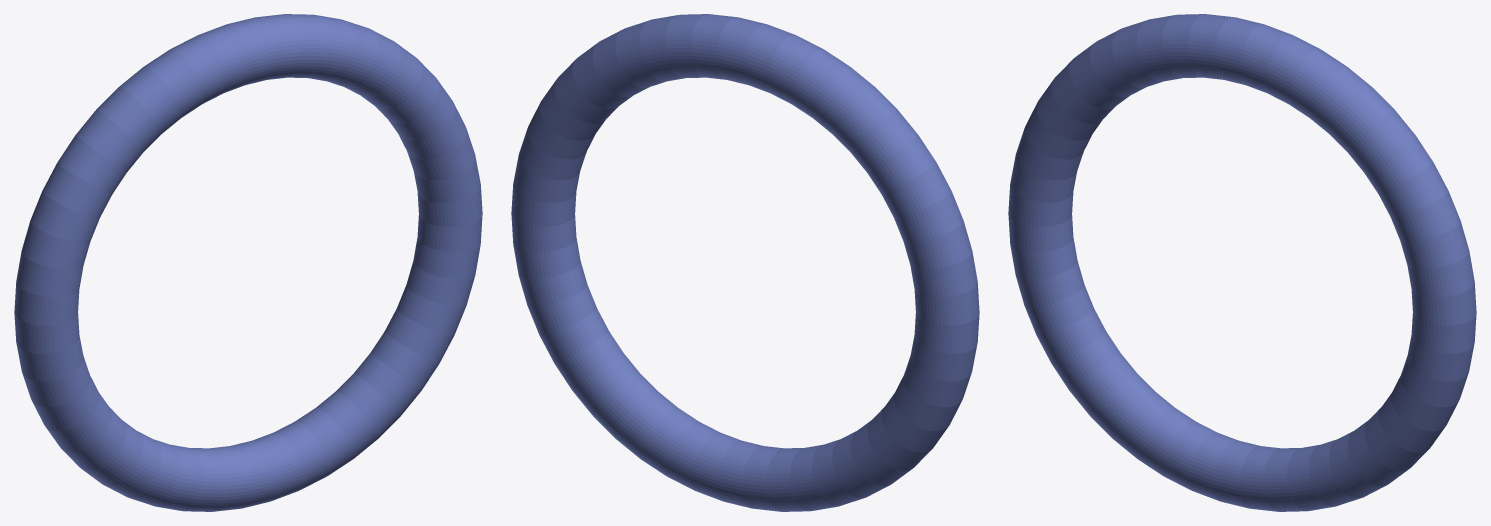
3 views of the same model, side by side, from view 1: azimuth 30°, elevation 25°; view 2: azimuth 150°, elevation 25°; view 3: azimuth 330°, elevation 25° (orthographic).
Visible parts, largest first — view 1: world; view 2: world; view 3: world.
Part boxes in pixels (left/top/right/bottom): world: left=14, top=14, right=482, bottom=511; world: left=511, top=14, right=979, bottom=511; world: left=1008, top=14, right=1476, bottom=511.
Bounding box in the file's own units: 16.67 × 16.63 × 2.
